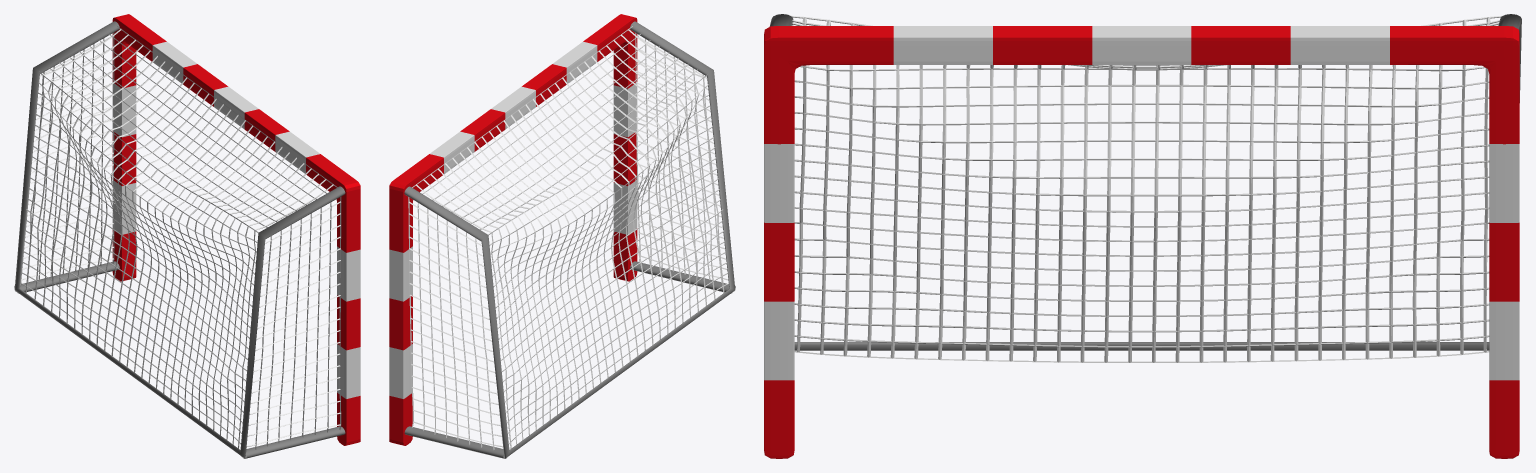
File: GoalPost with Far Center.fbx
3 views of the same model, side by side, from view 1: azimuth 30°, elevation 25°; view 2: azimuth 150°, elevation 25°; view 3: azimuth 270°, elevation 25° (orthographic). The views are drawn at different scales.
Visible parts, largest first — view 1: Cube.001, Cube, Cube.002; view 2: Cube.001, Cube, Cube.002; view 3: Cube.001, Cube, Cube.002.
Part boxes in pixels (left/top/right/bottom): Cube.001: left=15, top=26, right=341, bottom=457; Cube: left=112, top=14, right=360, bottom=445; Cube.002: left=14, top=21, right=345, bottom=458; Cube.001: left=408, top=26, right=734, bottom=457; Cube: left=389, top=14, right=637, bottom=445; Cube.002: left=404, top=21, right=735, bottom=458; Cube.001: left=790, top=15, right=1502, bottom=362; Cube: left=764, top=26, right=1519, bottom=458; Cube.002: left=769, top=14, right=1521, bottom=350.
Bounding box in the file's own units: 99.97 × 216 × 352.
